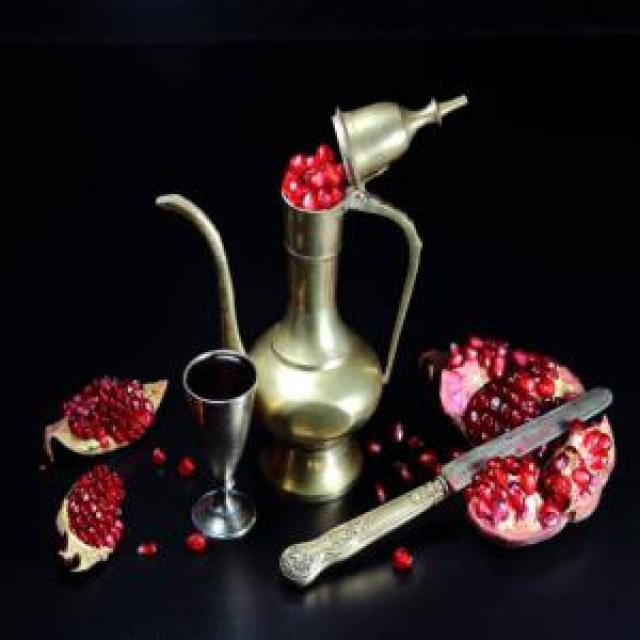knife: (280, 386, 614, 587)
